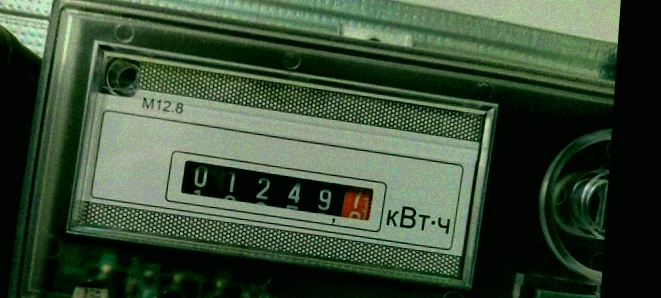0: (191, 161, 210, 189)
1: (223, 167, 239, 194)
2: (253, 175, 271, 202)
4: (286, 178, 303, 204)
7: (349, 183, 366, 210)
9: (314, 185, 333, 212)
screen: (162, 148, 391, 236)
